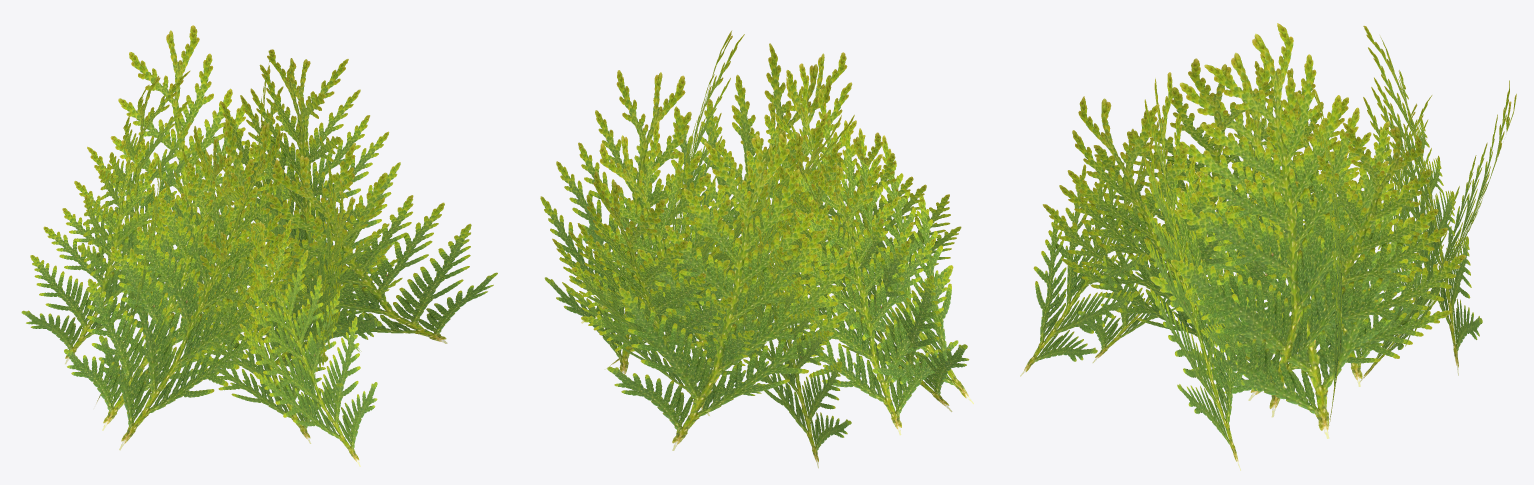
Rendered from bush_03.glb.
3 views of the same model, side by side, from view 1: azimuth 30°, elevation 25°; view 2: azimuth 150°, elevation 25°; view 3: azimuth 270°, elevation 25° (orthographic). The views are drawn at different scales.
Parts seen in each view (by area): view 1: env; view 2: env; view 3: env.
Part boxes in pixels (<box>): env: <box>21,25,497,466</box>; env: <box>540,30,973,468</box>; env: <box>1020,23,1516,470</box>.
Size of the model in its own units: 1.33 by 1.05 by 1.27.
Materials: 1 (1 with a texture image).
